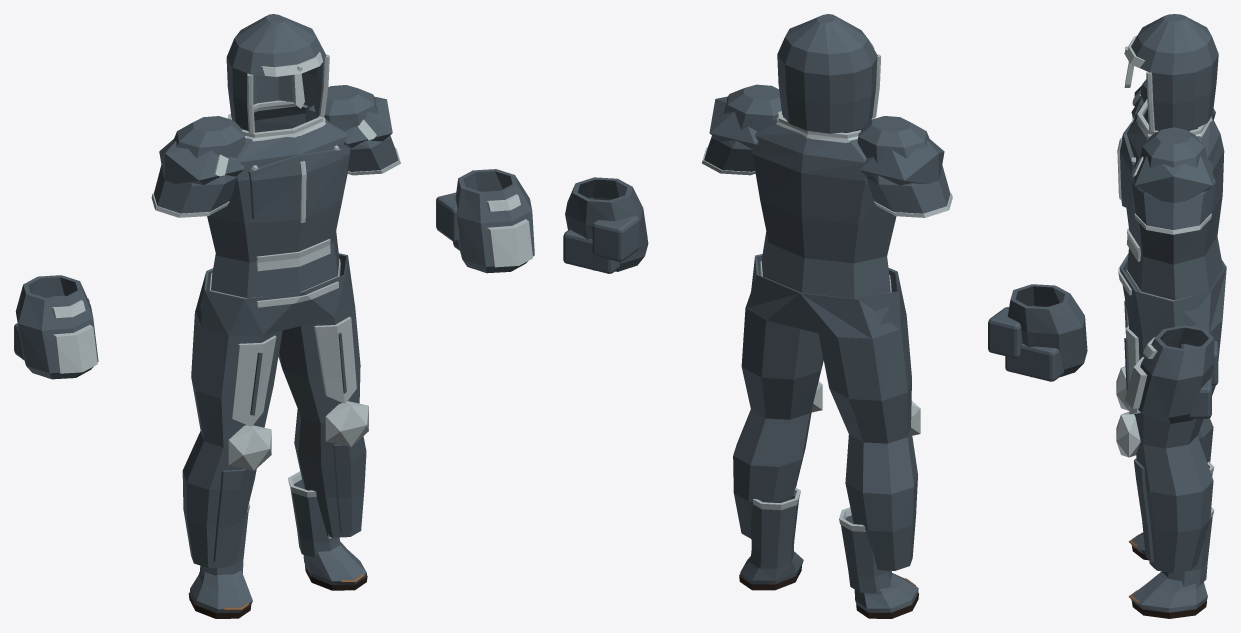
Rendered from knight_full_plate_armor.glb.
3 renders of one model, left to right at view 1: azimuth 30°, elevation 25°; view 2: azimuth 150°, elevation 25°; view 3: azimuth 270°, elevation 25°, orthographic. The views are drawn at different scales.
Parts seen in each view (by area): view 1: breastplate__plate tunic torso, cuisses-greaves__plate trouser leg -1, cuisses-greaves__plate trouser leg 1, helmet__plate joined crown and nape guard, cuisses-greaves__plate trouser pelvis yoke, breastplate__Faceted breastplate reinforcement, gauntlets__Block hand armor -1, gauntlets__Block hand armor 1, breastplate__plate upper sleeve -1, breastplate__plate upper sleeve 1, cuisses-greaves__Thigh plate -1, cuisses-greaves__Thigh plate 1 (+14 smaller); view 2: breastplate__plate tunic torso, cuisses-greaves__plate trouser leg -1, cuisses-greaves__plate trouser leg 1, helmet__plate joined crown and nape guard, cuisses-greaves__plate trouser pelvis yoke, breastplate__plate upper sleeve -1, gauntlets__Block hand armor -1, gauntlets__Block hand armor 1, breastplate__plate upper sleeve 1, boots-sabatons__plate boot upper 1, breastplate__Plate pauldron -1, boots-sabatons__plate boot upper -1 (+8 smaller); view 3: cuisses-greaves__plate trouser leg 1, breastplate__plate tunic torso, helmet__plate joined crown and nape guard, gauntlets__Block hand armor 1, breastplate__plate upper sleeve 1, cuisses-greaves__plate trouser pelvis yoke, breastplate__Plate pauldron 1, boots-sabatons__plate boot foot 1, breastplate__Faceted breastplate reinforcement, cuisses-greaves__Shin plate 1, boots-sabatons__plate boot upper 1, cuisses-greaves__Knee plate 1 (+16 smaller).
Part boxes in pixels (box(x1,y1,x2,y2)): breastplate__plate tunic torso: box(207, 106, 350, 298); cuisses-greaves__plate trouser leg -1: box(182, 311, 282, 568); cuisses-greaves__plate trouser leg 1: box(278, 306, 366, 537); helmet__plate joined crown and nape guard: box(226, 14, 326, 131); cuisses-greaves__plate trouser pelvis yoke: box(195, 253, 354, 336); breastplate__Faceted breastplate reinforcement: box(248, 148, 343, 229); gauntlets__Block hand armor -1: box(15, 275, 98, 379); gauntlets__Block hand armor 1: box(455, 169, 534, 273); breastplate__plate upper sleeve -1: box(154, 116, 245, 213); breastplate__plate upper sleeve 1: box(305, 85, 398, 171); cuisses-greaves__Thigh plate -1: box(230, 335, 276, 426); cuisses-greaves__Thigh plate 1: box(314, 316, 356, 403); breastplate__plate tunic torso: box(752, 119, 896, 299); cuisses-greaves__plate trouser leg -1: box(818, 314, 917, 570); cuisses-greaves__plate trouser leg 1: box(733, 299, 823, 538); helmet__plate joined crown and nape guard: box(777, 14, 877, 133); cuisses-greaves__plate trouser pelvis yoke: box(746, 254, 906, 339); breastplate__plate upper sleeve -1: box(857, 116, 950, 213); gauntlets__Block hand armor -1: box(1007, 284, 1087, 377); gauntlets__Block hand armor 1: box(565, 177, 648, 271); breastplate__plate upper sleeve 1: box(704, 84, 784, 171); boots-sabatons__plate boot upper 1: box(750, 496, 799, 568); breastplate__Plate pauldron -1: box(859, 139, 944, 185); boots-sabatons__plate boot upper -1: box(841, 515, 892, 593); cuisses-greaves__plate trouser leg 1: box(1128, 320, 1222, 573); breastplate__plate tunic torso: box(1126, 105, 1224, 300); helmet__plate joined crown and nape guard: box(1131, 14, 1218, 130); gauntlets__Block hand armor 1: box(1137, 325, 1214, 423); breastplate__plate upper sleeve 1: box(1131, 127, 1215, 229); cuisses-greaves__plate trouser pelvis yoke: box(1119, 254, 1226, 335); breastplate__Plate pauldron 1: box(1134, 155, 1212, 202); boots-sabatons__plate boot foot 1: box(1131, 572, 1207, 612); breastplate__Faceted breastplate reinforcement: box(1120, 122, 1135, 210); cuisses-greaves__Shin plate 1: box(1133, 458, 1153, 561); boots-sabatons__plate boot upper 1: box(1161, 516, 1212, 586); cuisses-greaves__Knee plate 1: box(1116, 412, 1140, 457).
Bounding box in the file's own units: 2.61 × 2.78 × 0.4961.
